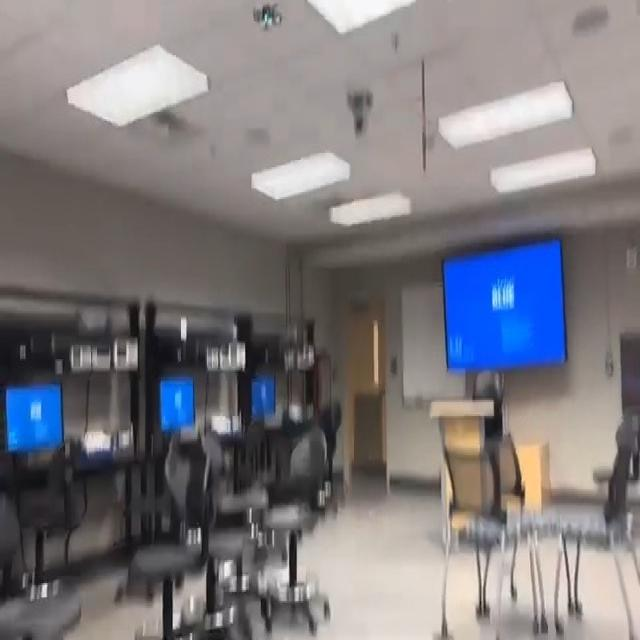drone: (245, 0, 300, 44)
